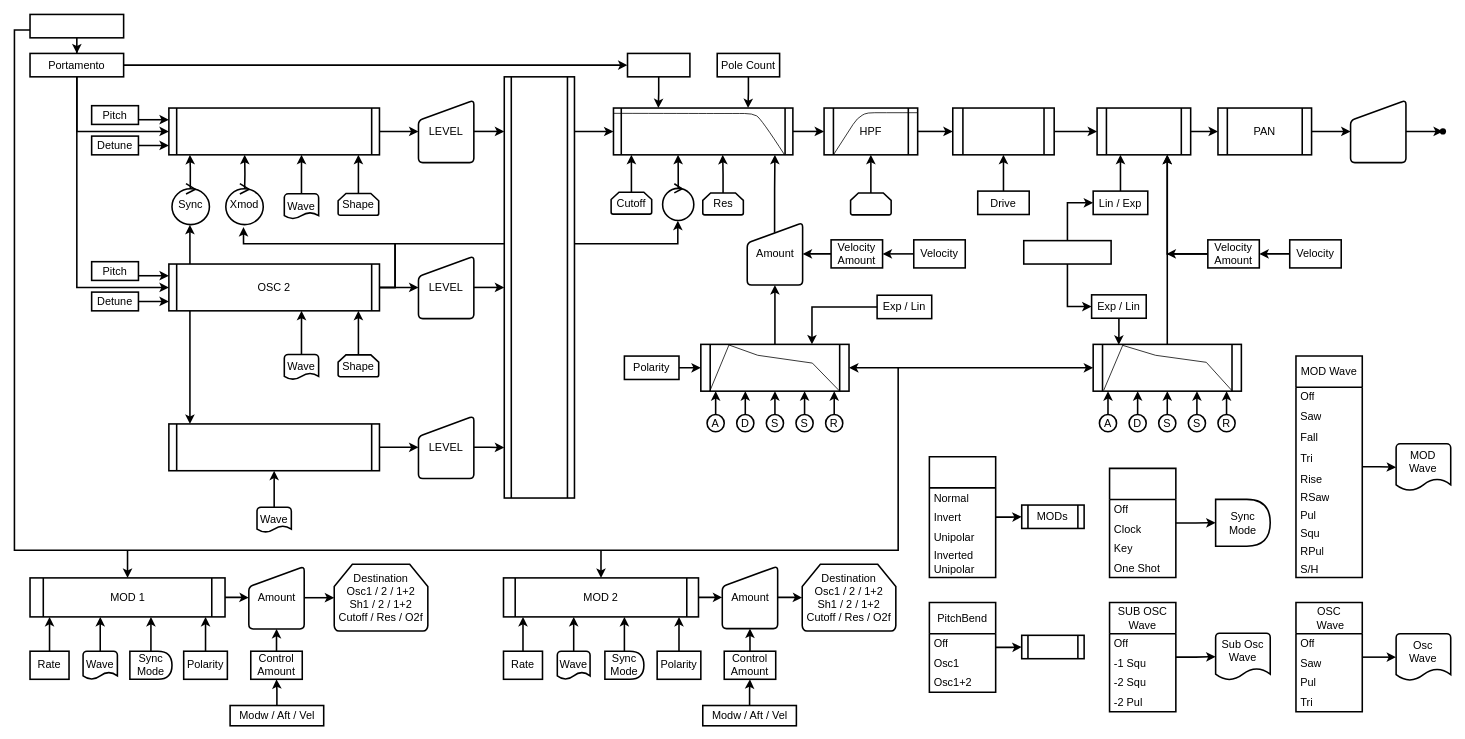
Image size: 1465x739. Some labels were removed from this diagram. The shapes that lost their labels are listed below. From the top down, each one's box as (x1, y1, x2, y2) in pixels, then its label:
(29, 13, 124, 38): Keyboard / Note
(626, 52, 690, 77): Key Track
(168, 107, 380, 155): OSC 1
(612, 107, 793, 155): LOWPASS FILTER
(952, 107, 1055, 155): OVERDRIVE
(1096, 107, 1191, 155): VCA
(1349, 99, 1406, 163): Volume
(661, 183, 694, 221): O2f
(849, 192, 892, 215): Freq
(1023, 239, 1112, 264): Env/VCA Mode
(503, 76, 575, 498): MIXER
(700, 343, 849, 392): Filter Env
(1092, 343, 1242, 392): Loudnes Env
(168, 423, 380, 471): SUB OSC
(928, 456, 996, 578): MOD Polarity
(1108, 467, 1176, 578): MOD Sync Mode
(1021, 634, 1085, 659): Oscs
